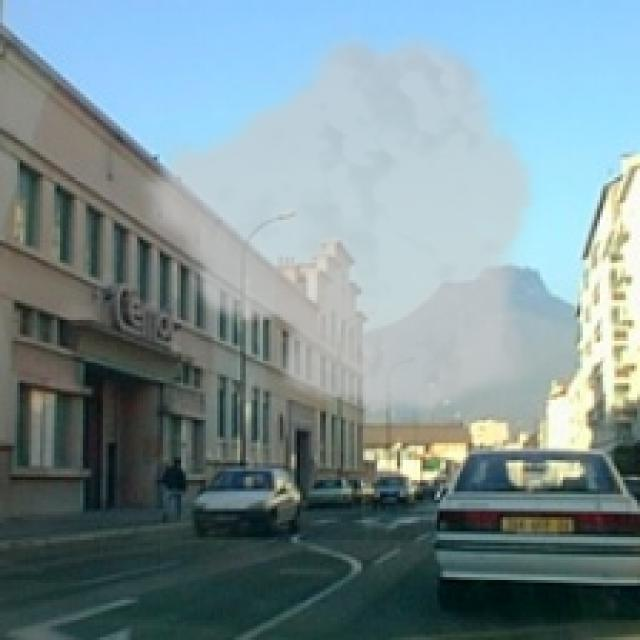smoke: (134, 23, 540, 420)
